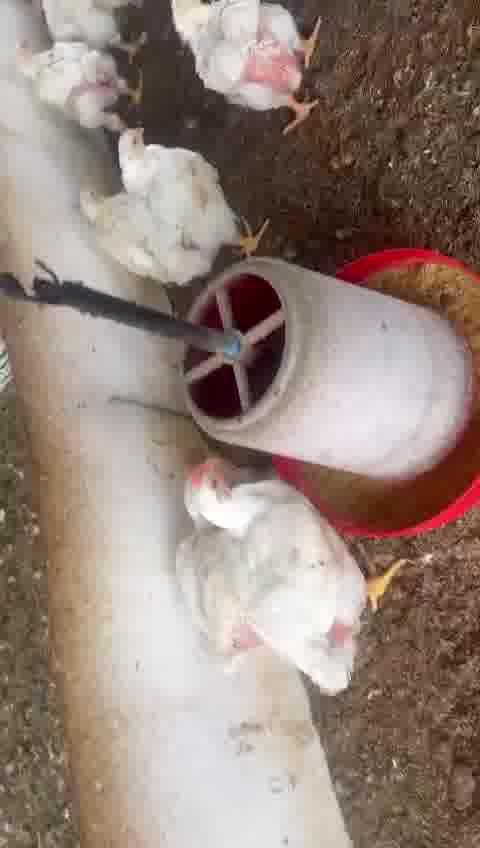AbNormal: (65, 167, 161, 287), (12, 40, 150, 118)
Normal: (197, 444, 400, 706), (183, 0, 349, 134), (115, 119, 278, 248), (165, 467, 250, 656)
